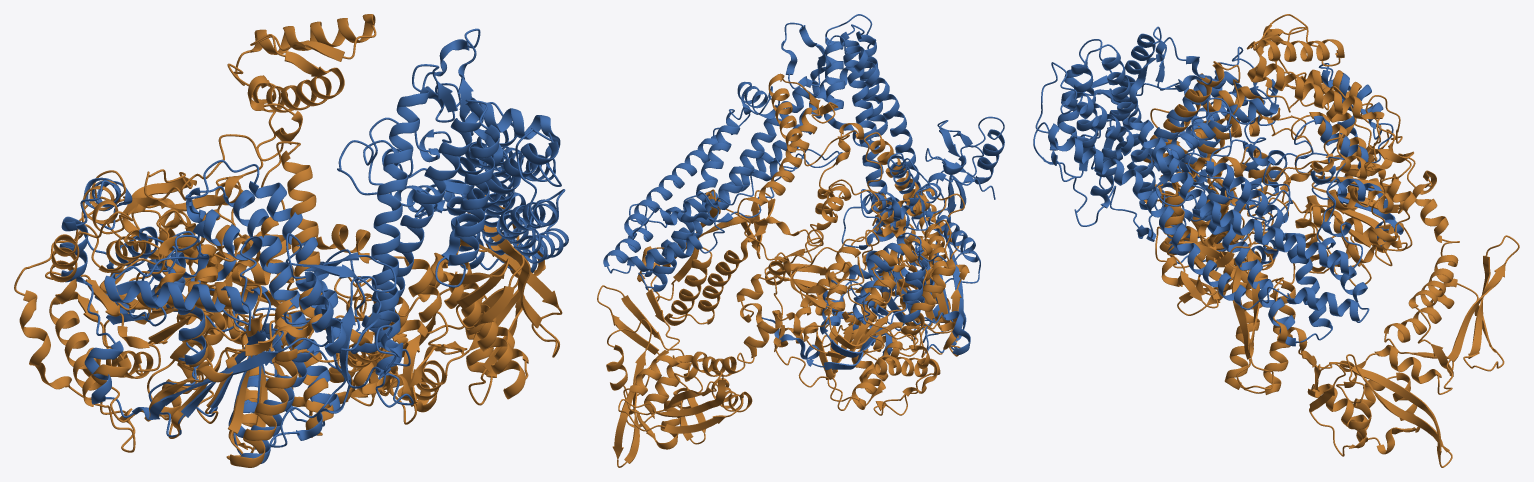
Rendered from AF-A7MEH1-F1-AF-B3KX98-F1.glb.
3 views of the same model, side by side, from view 1: azimuth 30°, elevation 25°; view 2: azimuth 150°, elevation 25°; view 3: azimuth 270°, elevation 25° (orthographic). The views are drawn at different scales.
Bounding box in the file's own units: 106 × 107 × 118.
